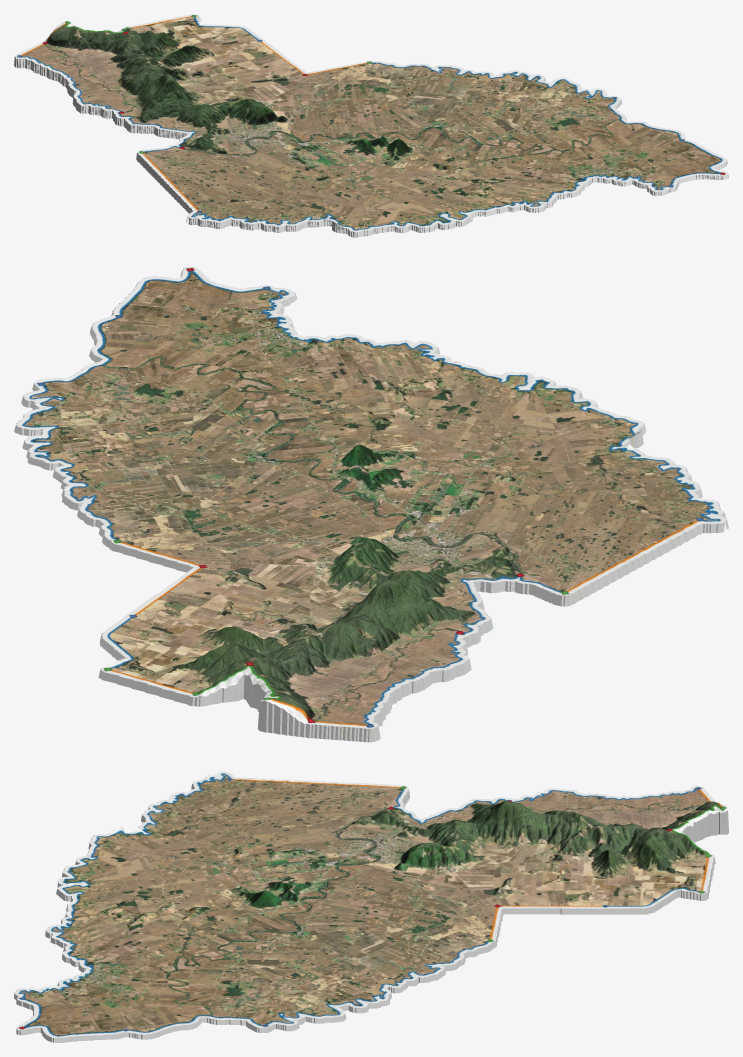
3 renders of one model, top to bottom at view 1: azimuth 30°, elevation 25°; view 2: azimuth 150°, elevation 25°; view 3: azimuth 270°, elevation 25°, orthographic. The views are drawn at different scales.
Bounding box in the file's own units: 1 × 0.0621 × 1.14.
Materials: 1 (1 with a texture image).
